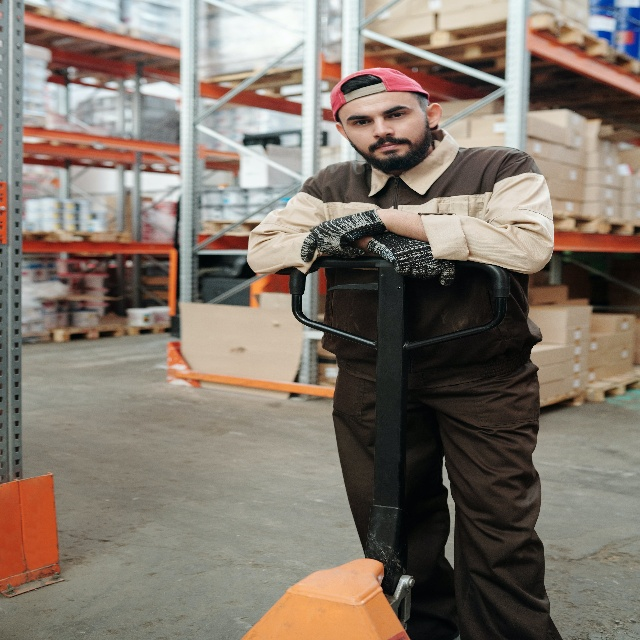Guantes: (366, 228, 456, 287), (299, 207, 388, 264)
